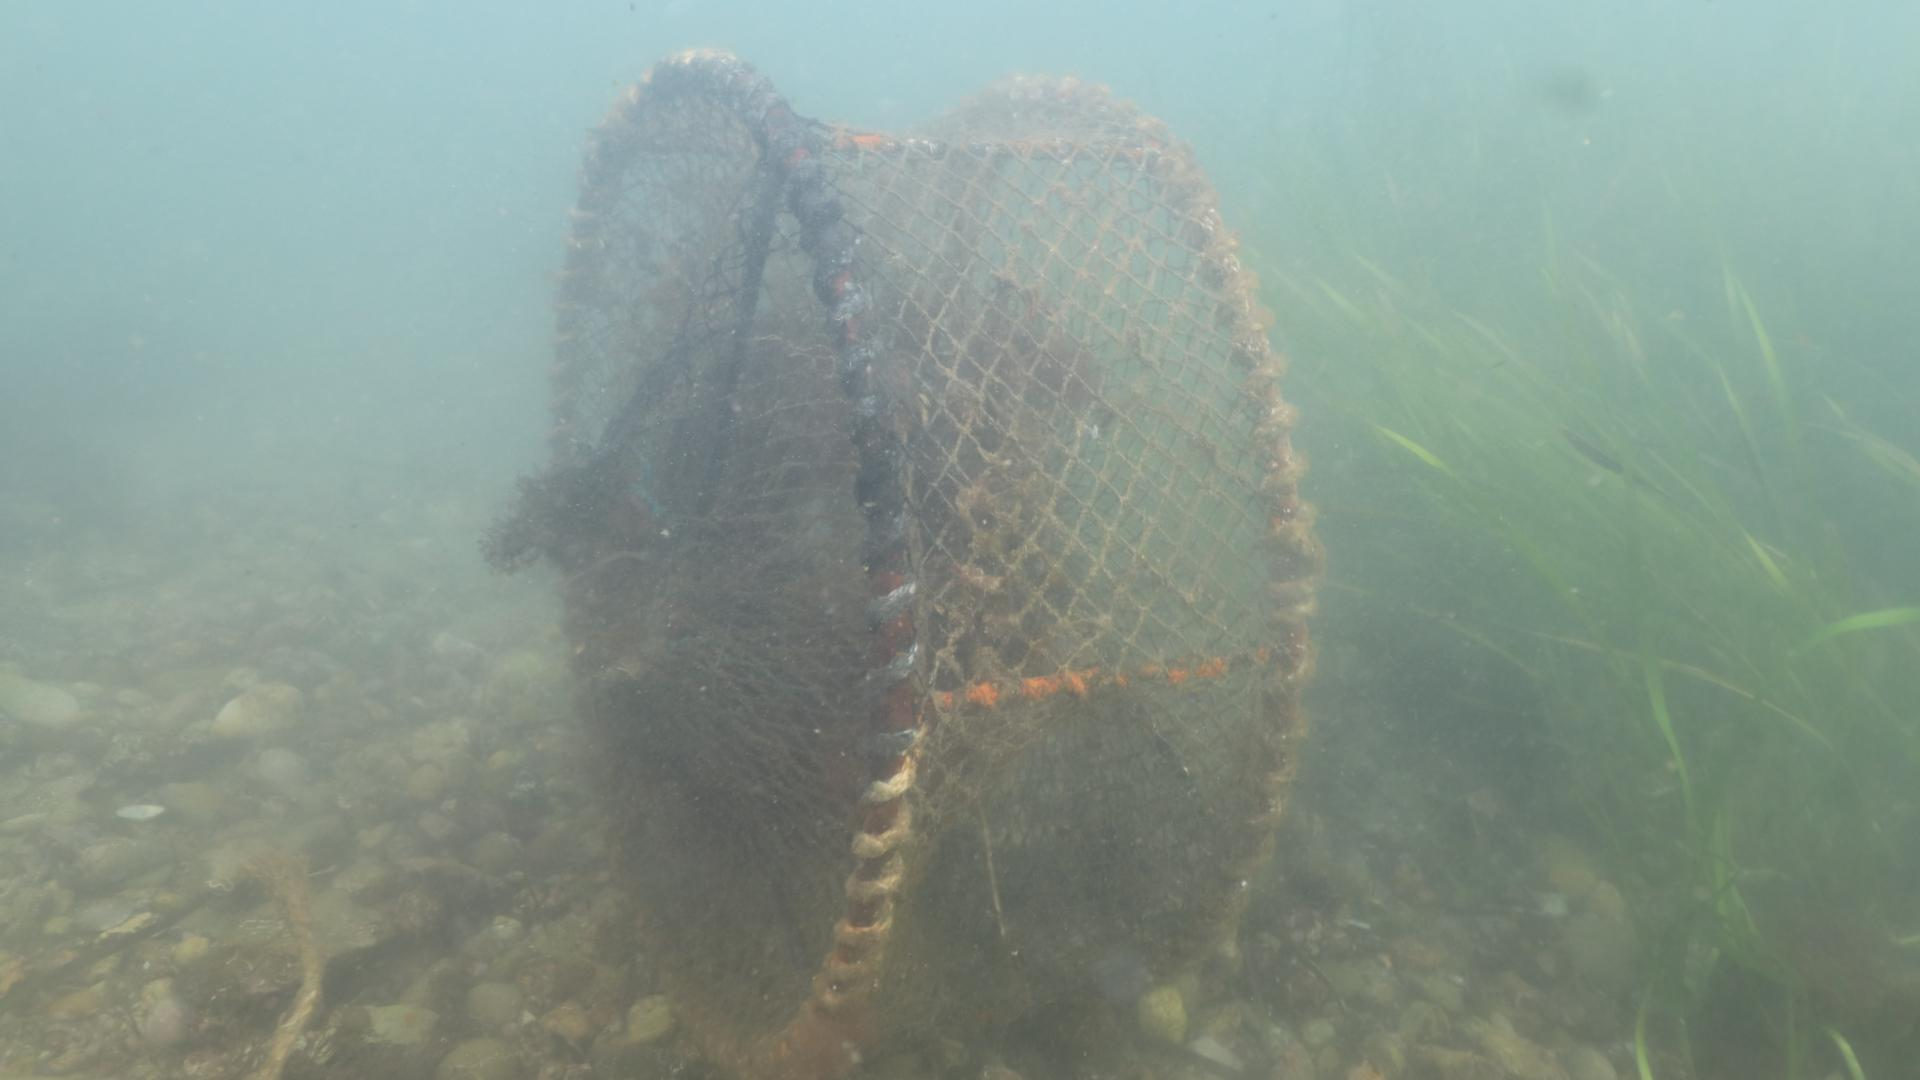circular fish trap: (480, 51, 1324, 1051)
